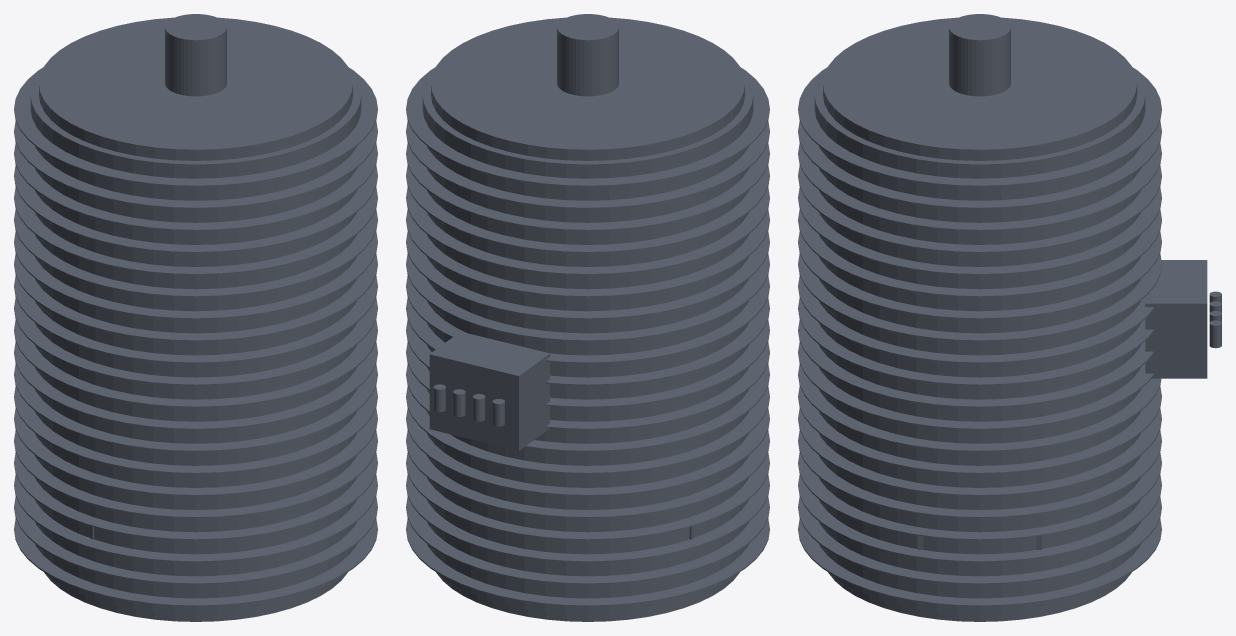
The model's file is VPump_Motor.glb.
3 views of the same model, side by side, from view 1: azimuth 30°, elevation 25°; view 2: azimuth 150°, elevation 25°; view 3: azimuth 270°, elevation 25° (orthographic).
Parts seen in each view (by area): view 1: VPump_Motor; view 2: VPump_Motor; view 3: VPump_Motor.
Boxes of the visible parts, x1=… form: VPump_Motor: x1=14, y1=14, x2=377, y2=621; VPump_Motor: x1=406, y1=14, x2=769, y2=621; VPump_Motor: x1=798, y1=14, x2=1221, y2=621.
Bounding box in the file's own units: 0.88 × 1.41 × 1.03.
